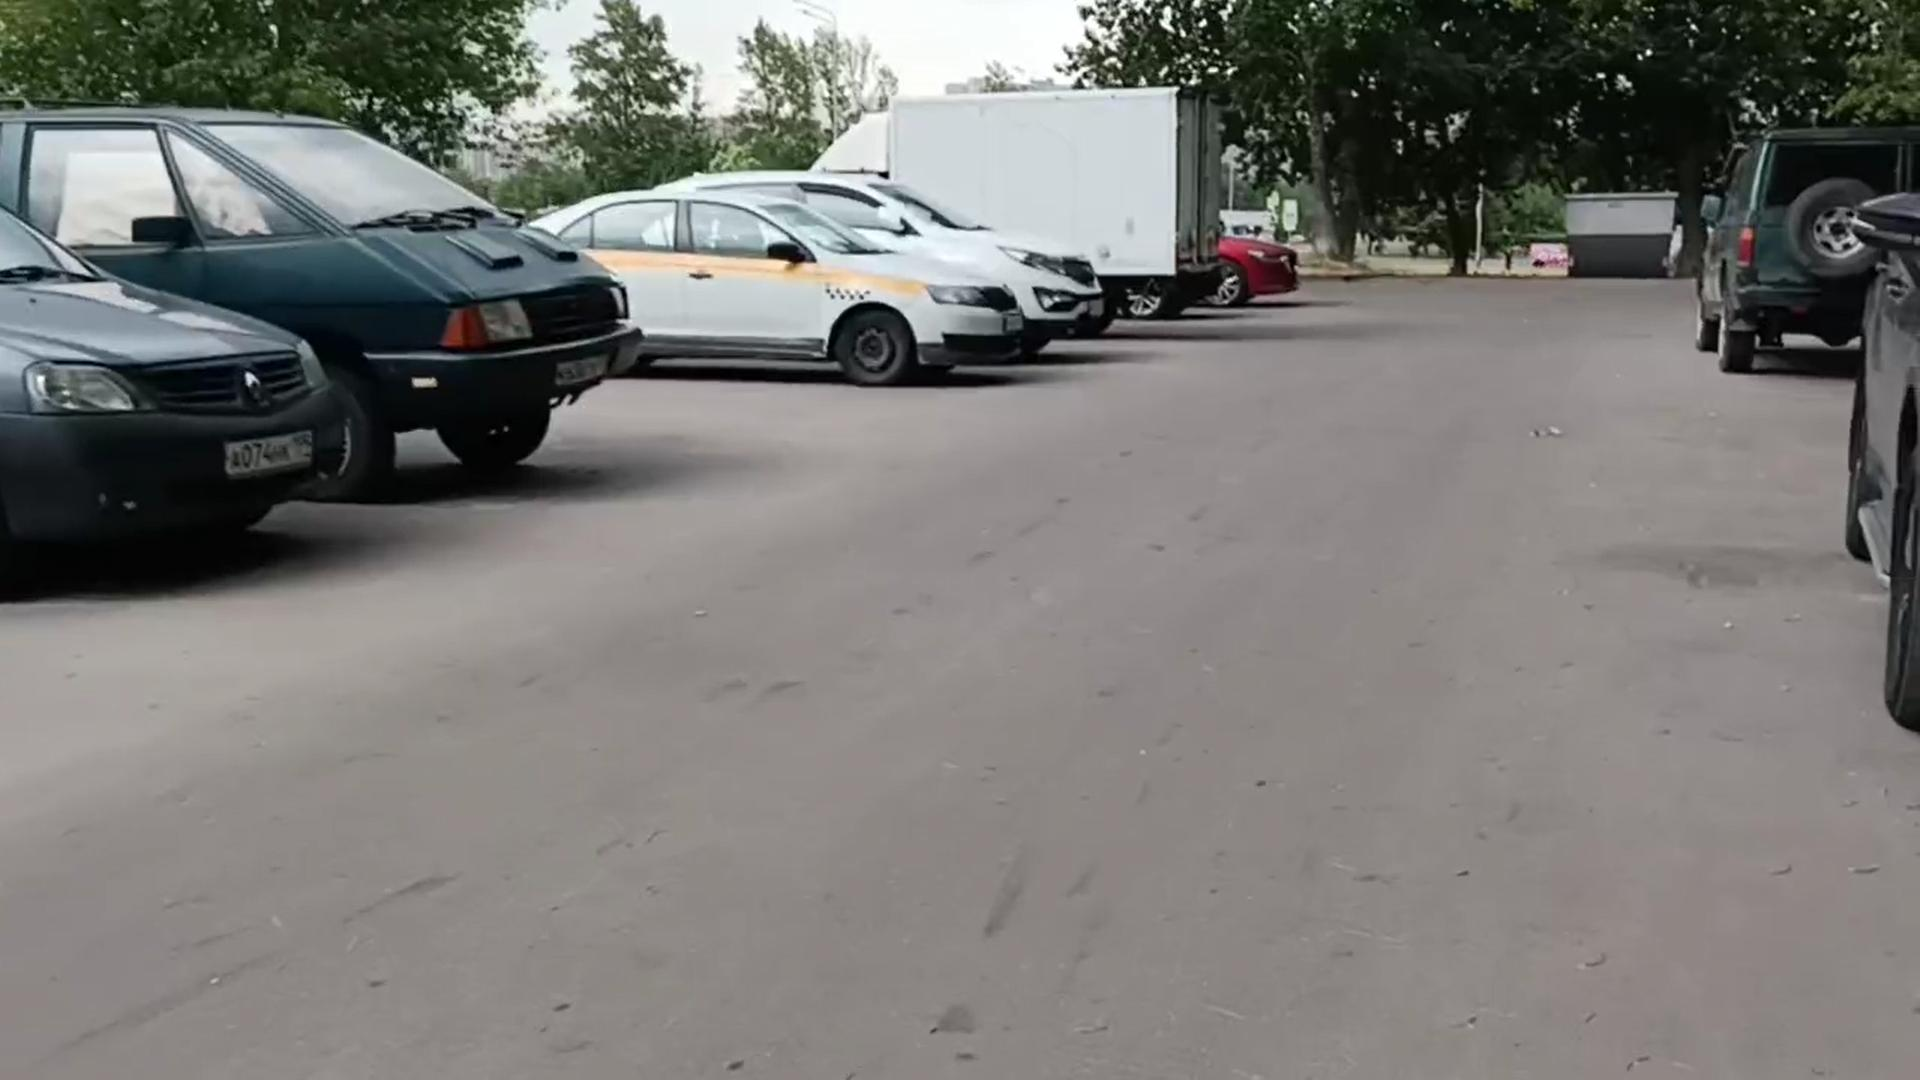plate: (229, 430, 309, 476)
